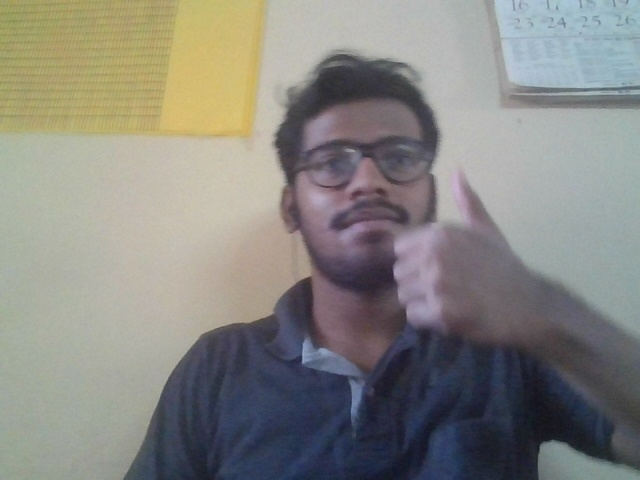ThumbsUp: (391, 161, 535, 346)
